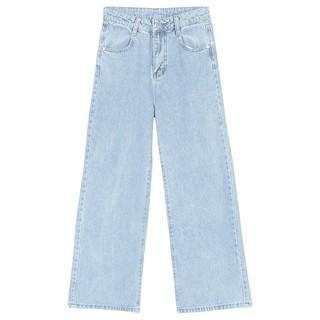pants: (66, 4, 255, 314)
